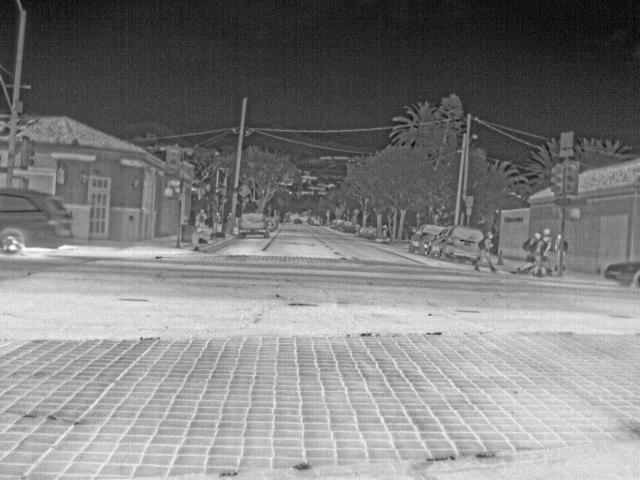car: (0, 186, 75, 256), (433, 224, 479, 267), (408, 222, 441, 255), (603, 260, 639, 289), (238, 210, 269, 239), (357, 227, 375, 240), (268, 214, 281, 232), (331, 218, 346, 230), (341, 224, 356, 235), (312, 218, 323, 227), (292, 217, 304, 225)
person: (479, 229, 498, 273), (537, 239, 551, 280), (527, 230, 540, 255), (211, 209, 223, 231), (196, 208, 207, 231), (542, 225, 555, 240)
